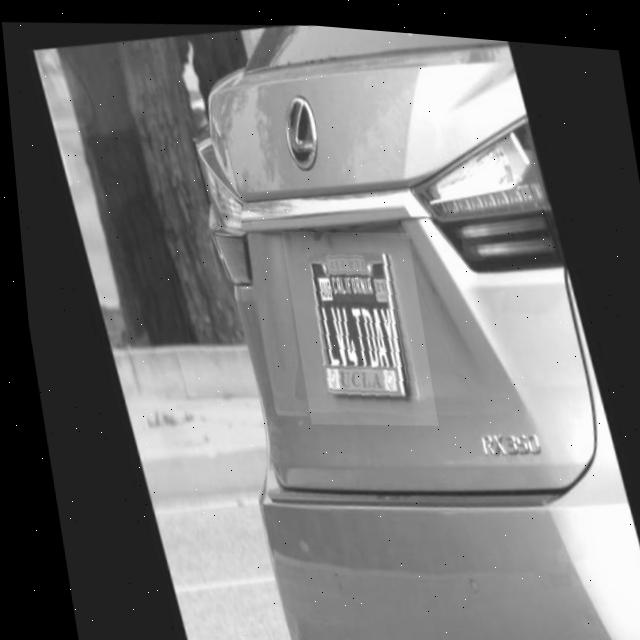LicensePlate: (276, 218, 431, 427)
